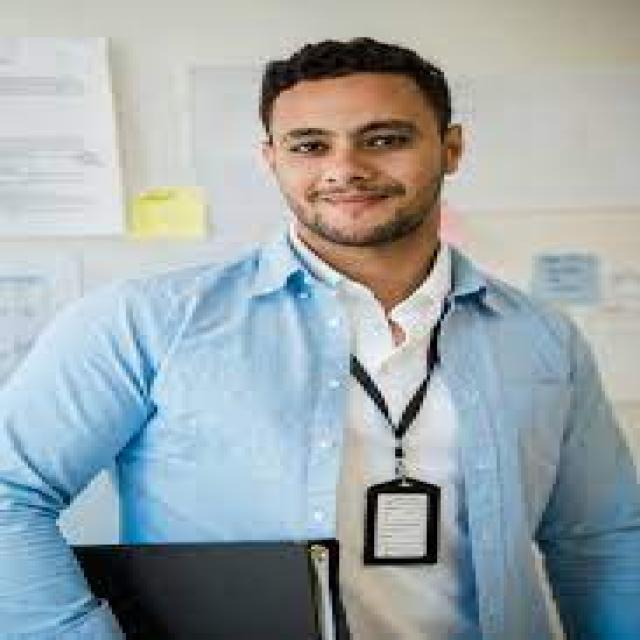id_card: (308, 292, 464, 575)
